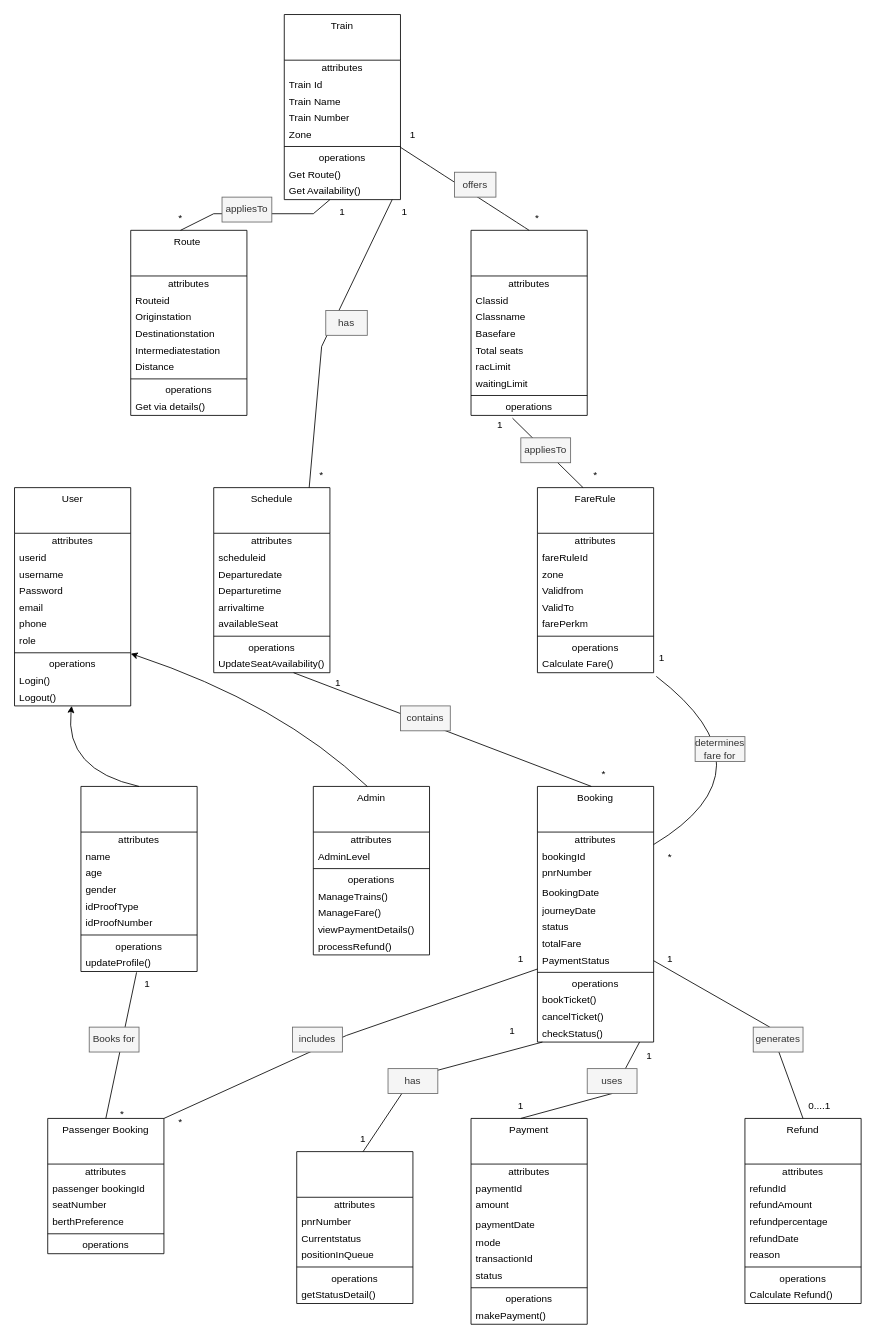
This 876x1339 diagram has some shape labels left out. Each missing label, with the box of its shape:
Class Type: (470, 229, 587, 415)
Passenger: (80, 786, 197, 972)
PNRStatus: (296, 1151, 413, 1304)
